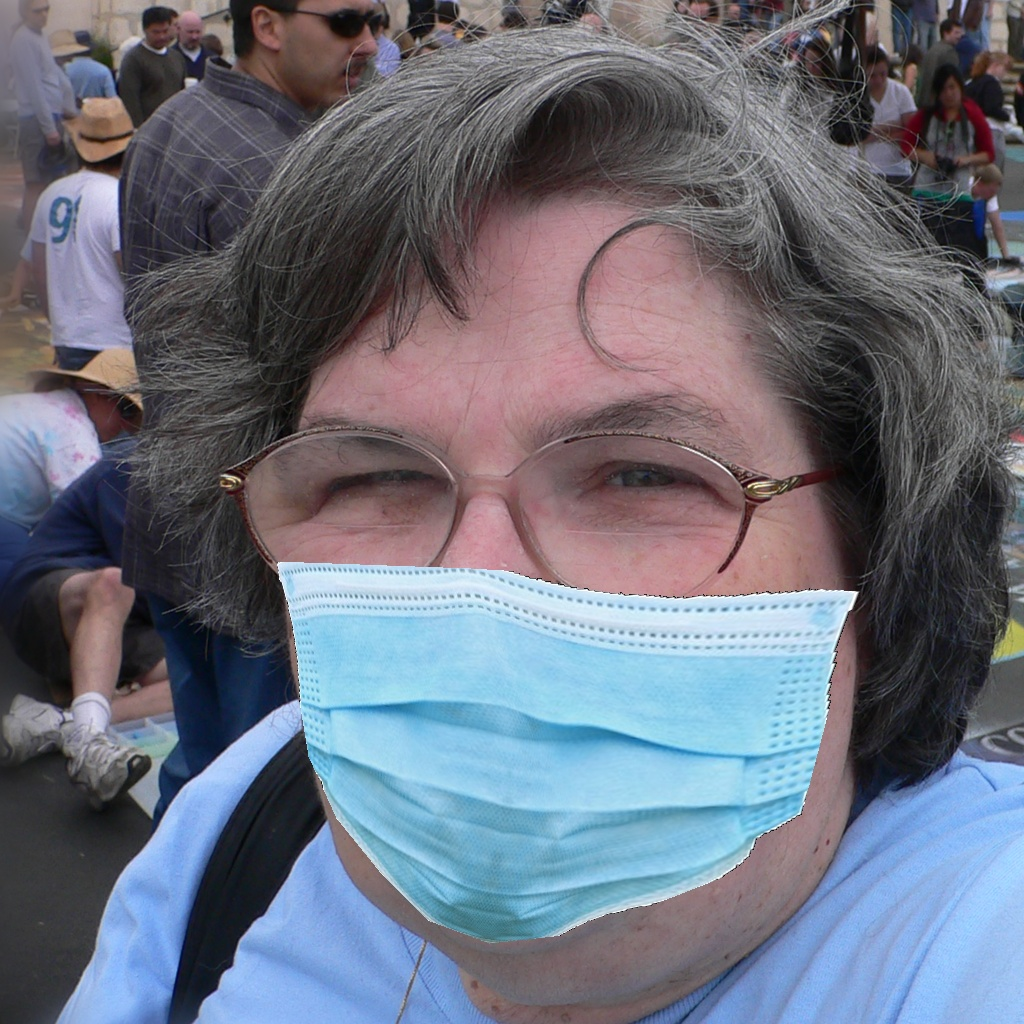Mask: (274, 353, 866, 951)
